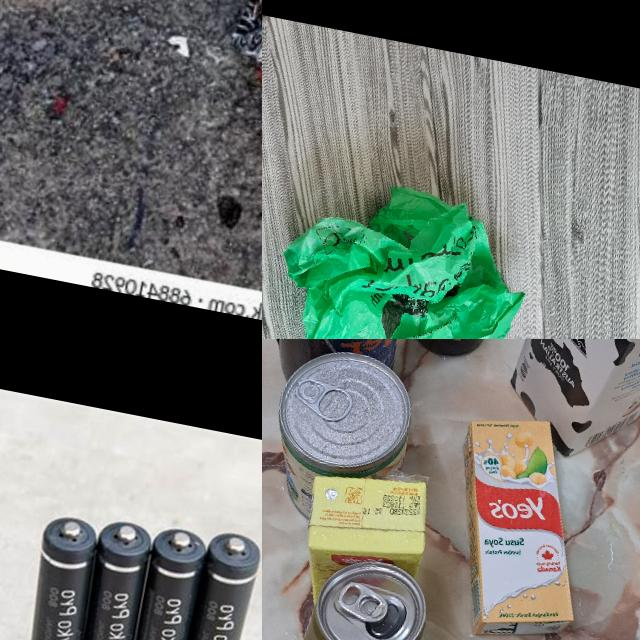aba de lata: (287, 371, 356, 429), (334, 577, 391, 624)
bateria: (10, 512, 106, 640), (63, 515, 160, 640), (119, 525, 213, 640), (172, 528, 262, 640)
caixinha: (430, 409, 608, 640), (294, 458, 438, 626), (501, 339, 640, 485)
lata: (262, 339, 424, 536), (288, 549, 455, 640)
sacola plástica: (262, 166, 538, 339)
